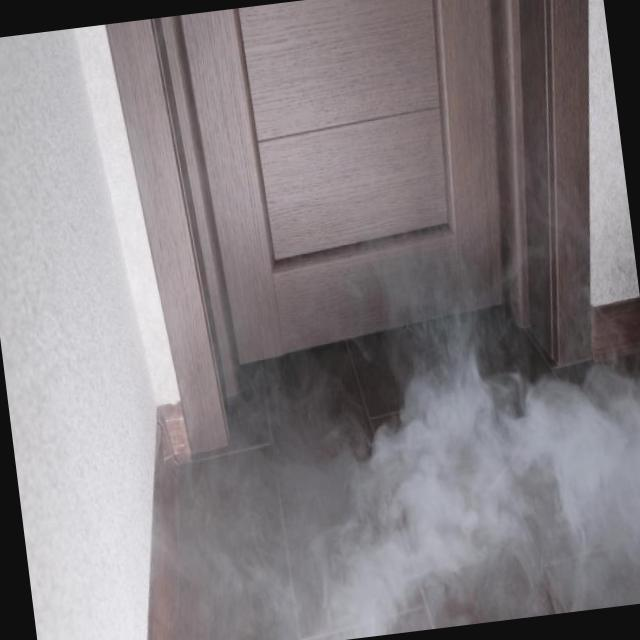smoke: (369, 332, 640, 630)
